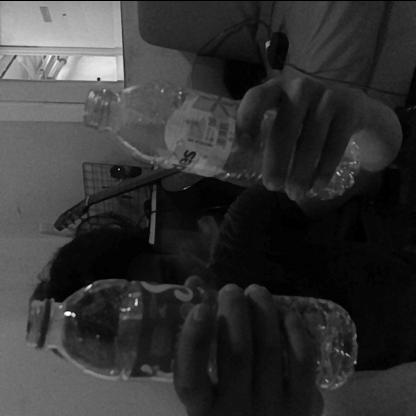plastic_bottles: (28, 278, 360, 390), (81, 82, 357, 192)
